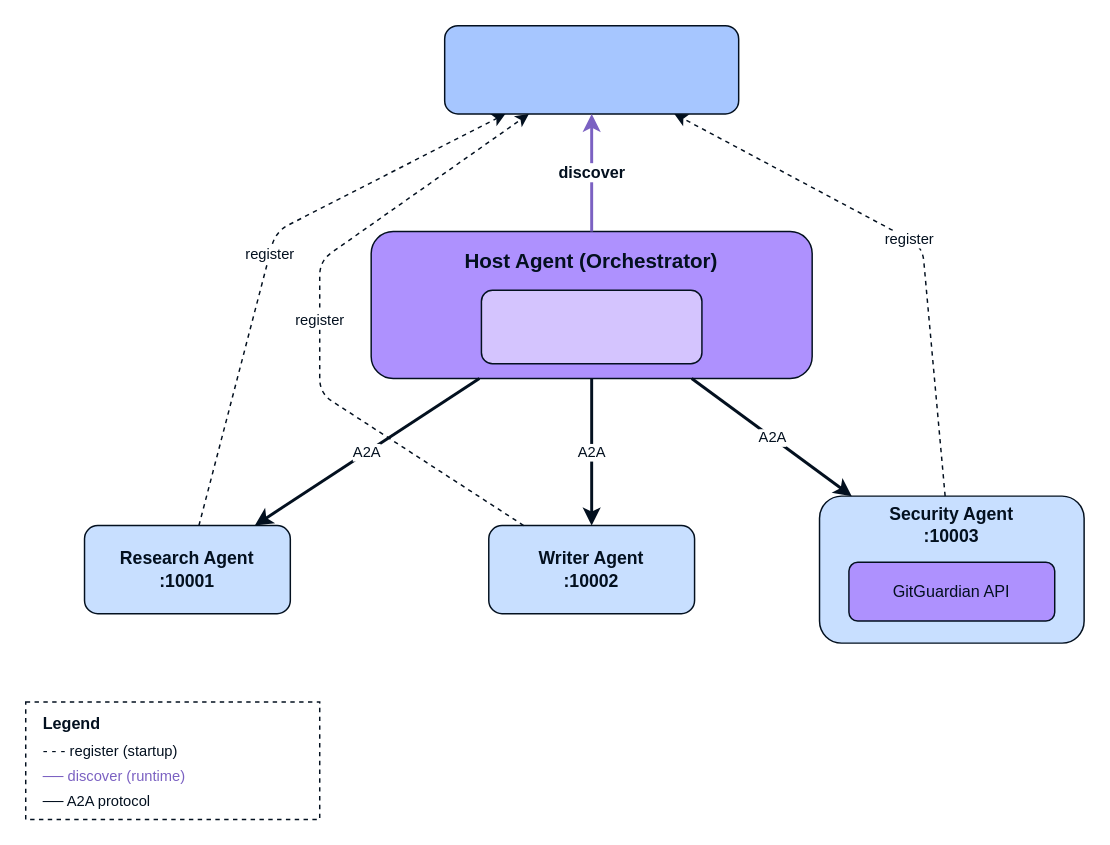
The diagram is 1110 pixels wide and 845 high, and some of its shapes have lost their labels. Each missing label, with the centre of its shape:
"Bedrock LLM (Claude)" belongs at (x=591, y=326).
"Discovery Service :9999" belongs at (x=591, y=69).
